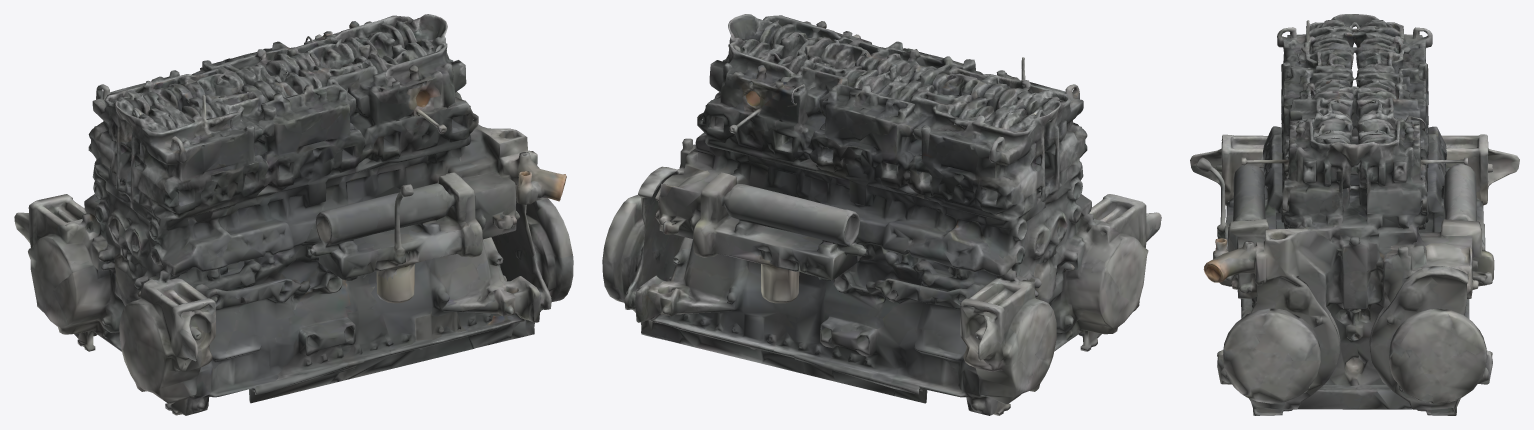
The model's file is motor-cummins-n14-remanufacturado.glb.
The picture shows the model from 3 angles, left to right: view 1: azimuth 30°, elevation 25°; view 2: azimuth 150°, elevation 25°; view 3: azimuth 270°, elevation 25°; orthographic projection. The views are drawn at different scales.
Bounding box in the file's own units: 1.9 × 1.31 × 1.48.
1 material, 1 textured.
